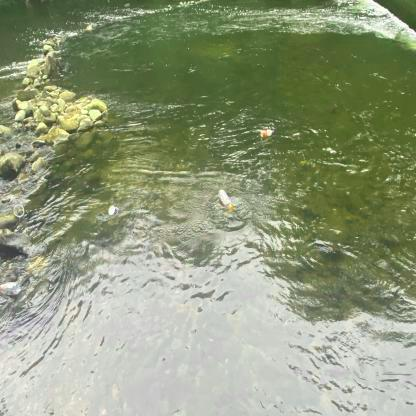Plastic: (217, 187, 234, 211), (260, 127, 276, 140)
